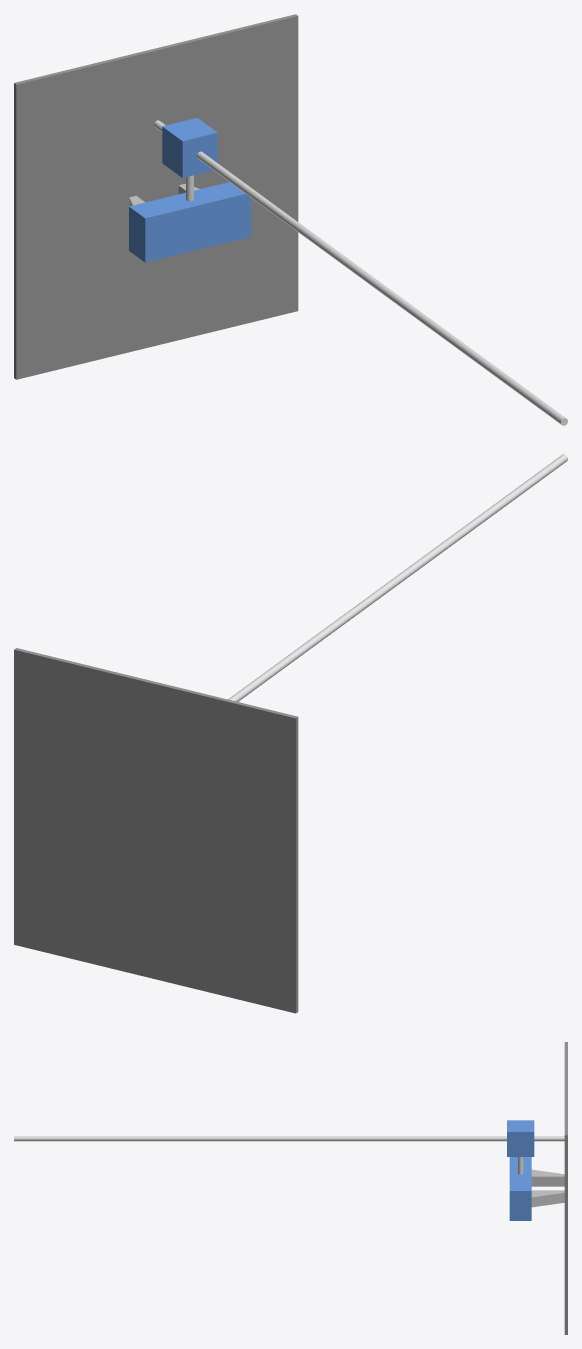
File: gripper.gltf
3 renders of one model, top to bottom at view 1: azimuth 30°, elevation 25°; view 2: azimuth 150°, elevation 25°; view 3: azimuth 270°, elevation 25°, orthographic. The views are drawn at different scales.
Visible parts, largest first — view 1: b_gripper_base_001_, b_gripper_body_001_, b_gripper_vertical_rod_001_, b_gripper_connector_block_001_; view 2: b_gripper_base_001_, b_gripper_vertical_rod_001_; view 3: b_gripper_vertical_rod_001_, b_gripper_body_001_, b_gripper_base_001_, b_gripper_connector_block_001_, b_gripper_arm_001_, b_gripper_arm_001_001.
Boxes of the visible parts, x1,y1,x2,y2 form: b_gripper_base_001_: [14, 14, 298, 379]; b_gripper_body_001_: [129, 182, 250, 262]; b_gripper_vertical_rod_001_: [154, 120, 567, 425]; b_gripper_connector_block_001_: [162, 118, 217, 177]; b_gripper_base_001_: [14, 648, 298, 1013]; b_gripper_vertical_rod_001_: [228, 454, 567, 701]; b_gripper_vertical_rod_001_: [14, 1136, 564, 1141]; b_gripper_body_001_: [509, 1157, 531, 1220]; b_gripper_base_001_: [564, 1042, 567, 1334]; b_gripper_connector_block_001_: [507, 1120, 534, 1156]; b_gripper_arm_001_: [531, 1169, 564, 1186]; b_gripper_arm_001_001: [531, 1190, 564, 1207].
Bounding box in the file's own units: 200 × 200 × 503.
